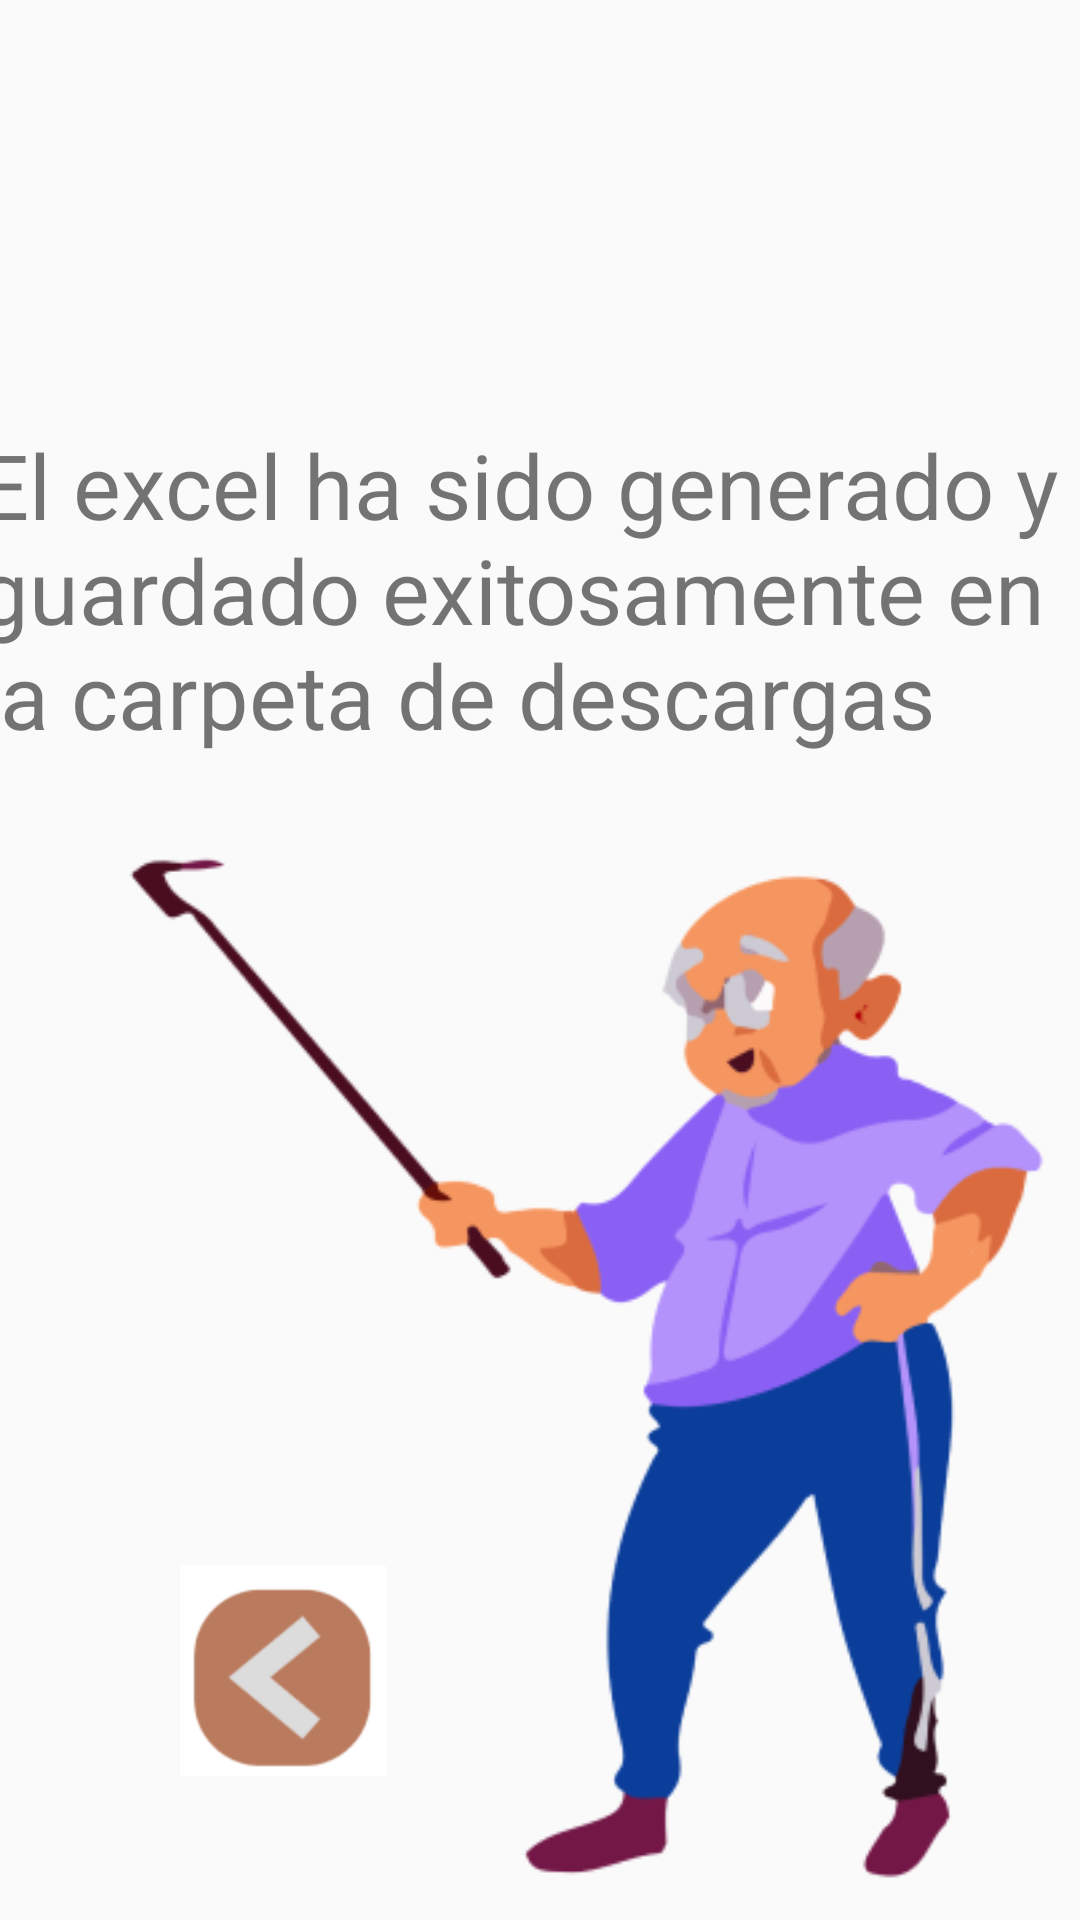

Icon click points for this 1080*1920 phone screenshot, format (x=x, y=y):
regresar: (x=282, y=1678)
